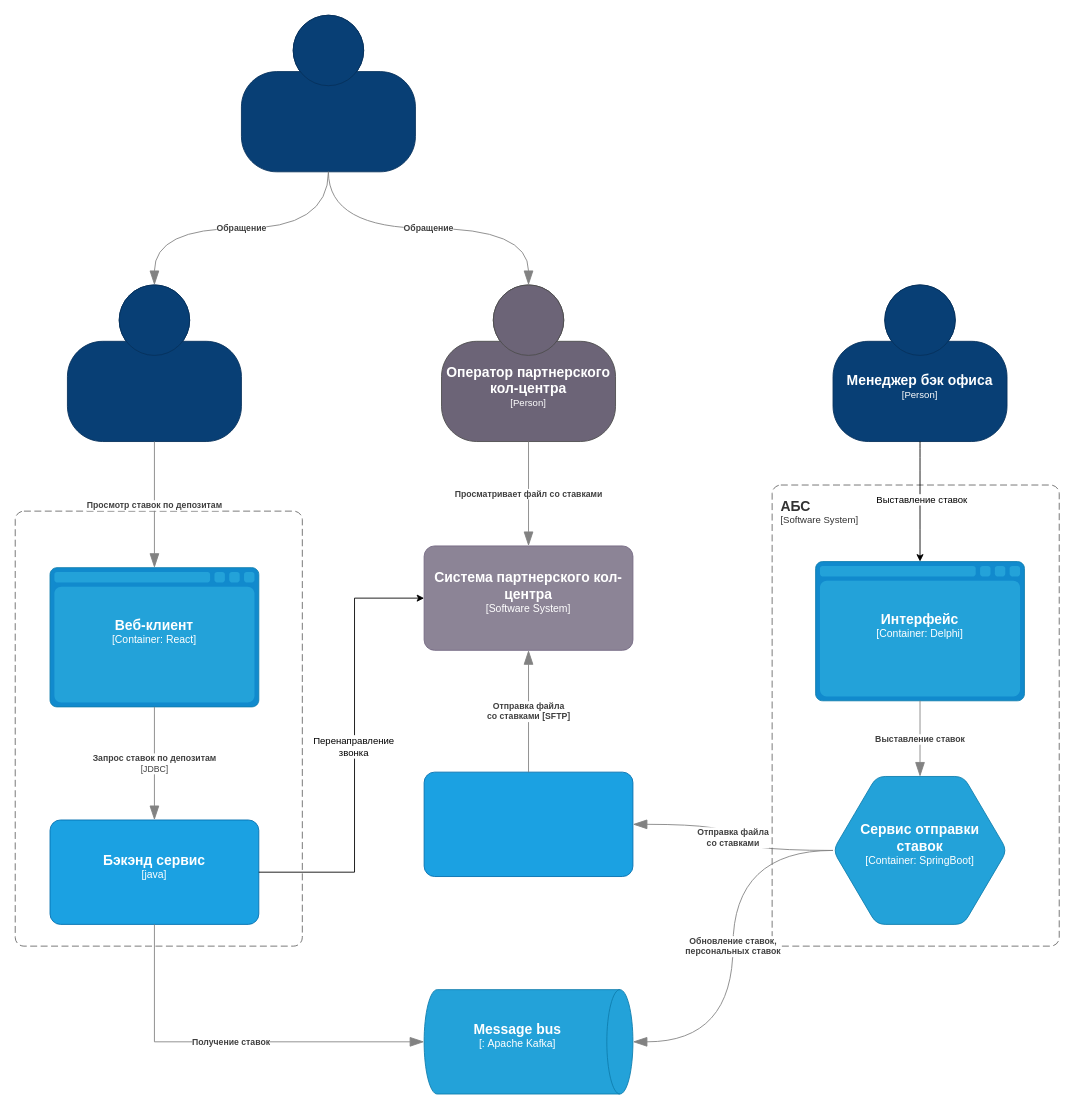
This 1074x1109 diagram has some shape labels left out. Each missing label, with the box of its shape:
Клиент [Person]: (241, 14, 415, 172)
Оператор кол-центра [Person]: (67, 284, 241, 442)
Почтовый сервер [Software System]: (423, 771, 633, 877)
Система кол-центра [Software System]: (14, 510, 302, 946)
